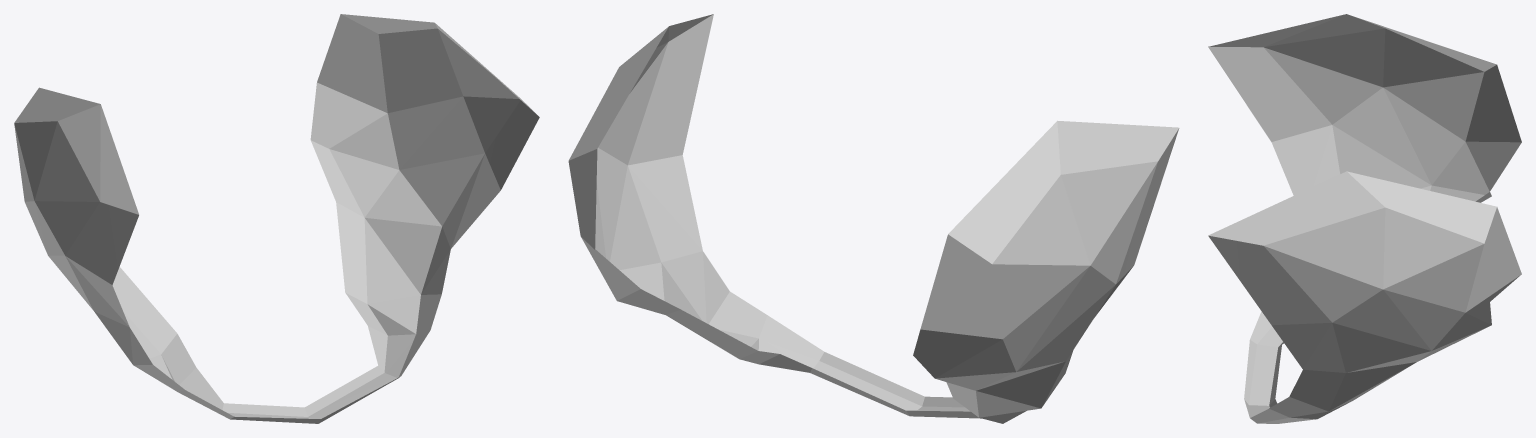
File: MuttonBeard.glb
3 views of the same model, side by side, from view 1: azimuth 30°, elevation 25°; view 2: azimuth 150°, elevation 25°; view 3: azimuth 270°, elevation 25° (orthographic). The views are drawn at different scales.
Visible parts, largest first — view 1: MuttonBeard; view 2: MuttonBeard; view 3: MuttonBeard.
Boxes of the visible parts, x1,y1,x2,y2 form: MuttonBeard: (14, 14, 539, 423); MuttonBeard: (568, 14, 1179, 423); MuttonBeard: (1208, 14, 1521, 423).
Bounding box in the file's own units: 0.1857 × 0.1342 × 0.1219.
1 material, 1 textured.
